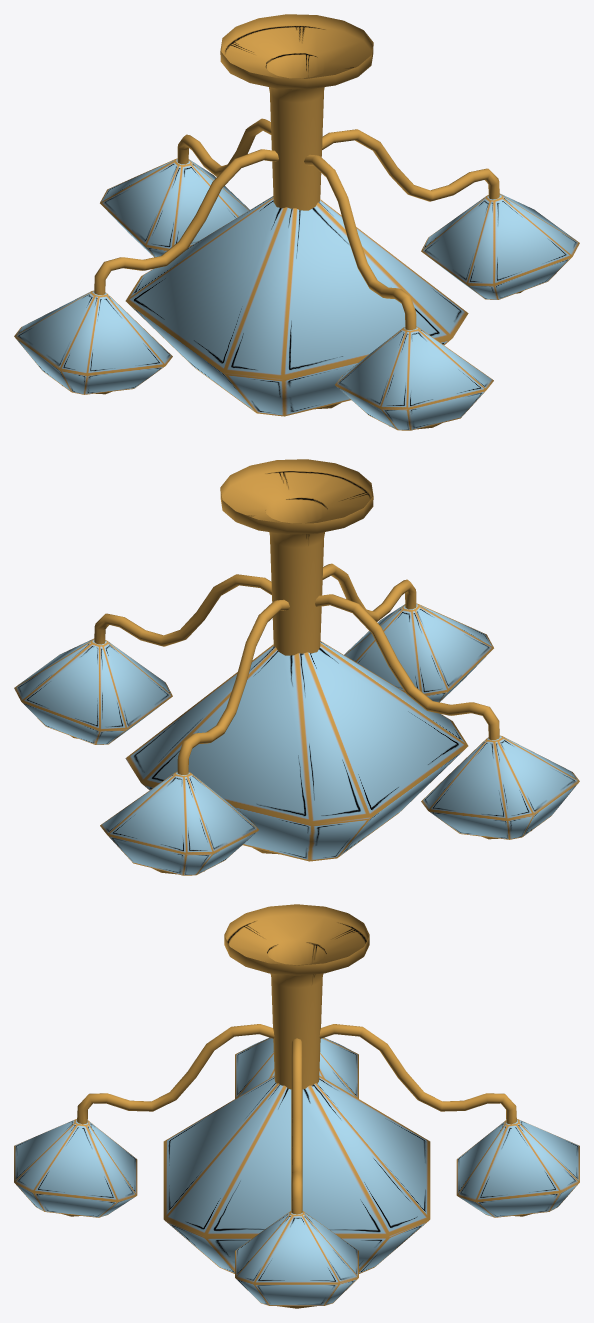
Rendered from diamond_light.fbx.
The picture shows the model from 3 angles, top to bottom: view 1: azimuth 30°, elevation 25°; view 2: azimuth 150°, elevation 25°; view 3: azimuth 270°, elevation 25°; orthographic projection. The views are drawn at different scales.
Visible parts, largest first — view 1: diamond_light; view 2: diamond_light; view 3: diamond_light.
Boxes of the visible parts, x1,y1,x2,y2 form: diamond_light: (14, 14, 579, 430); diamond_light: (14, 459, 579, 875); diamond_light: (14, 904, 579, 1308).
Size of the model in its own units: 2.12 by 1.31 by 2.12.
